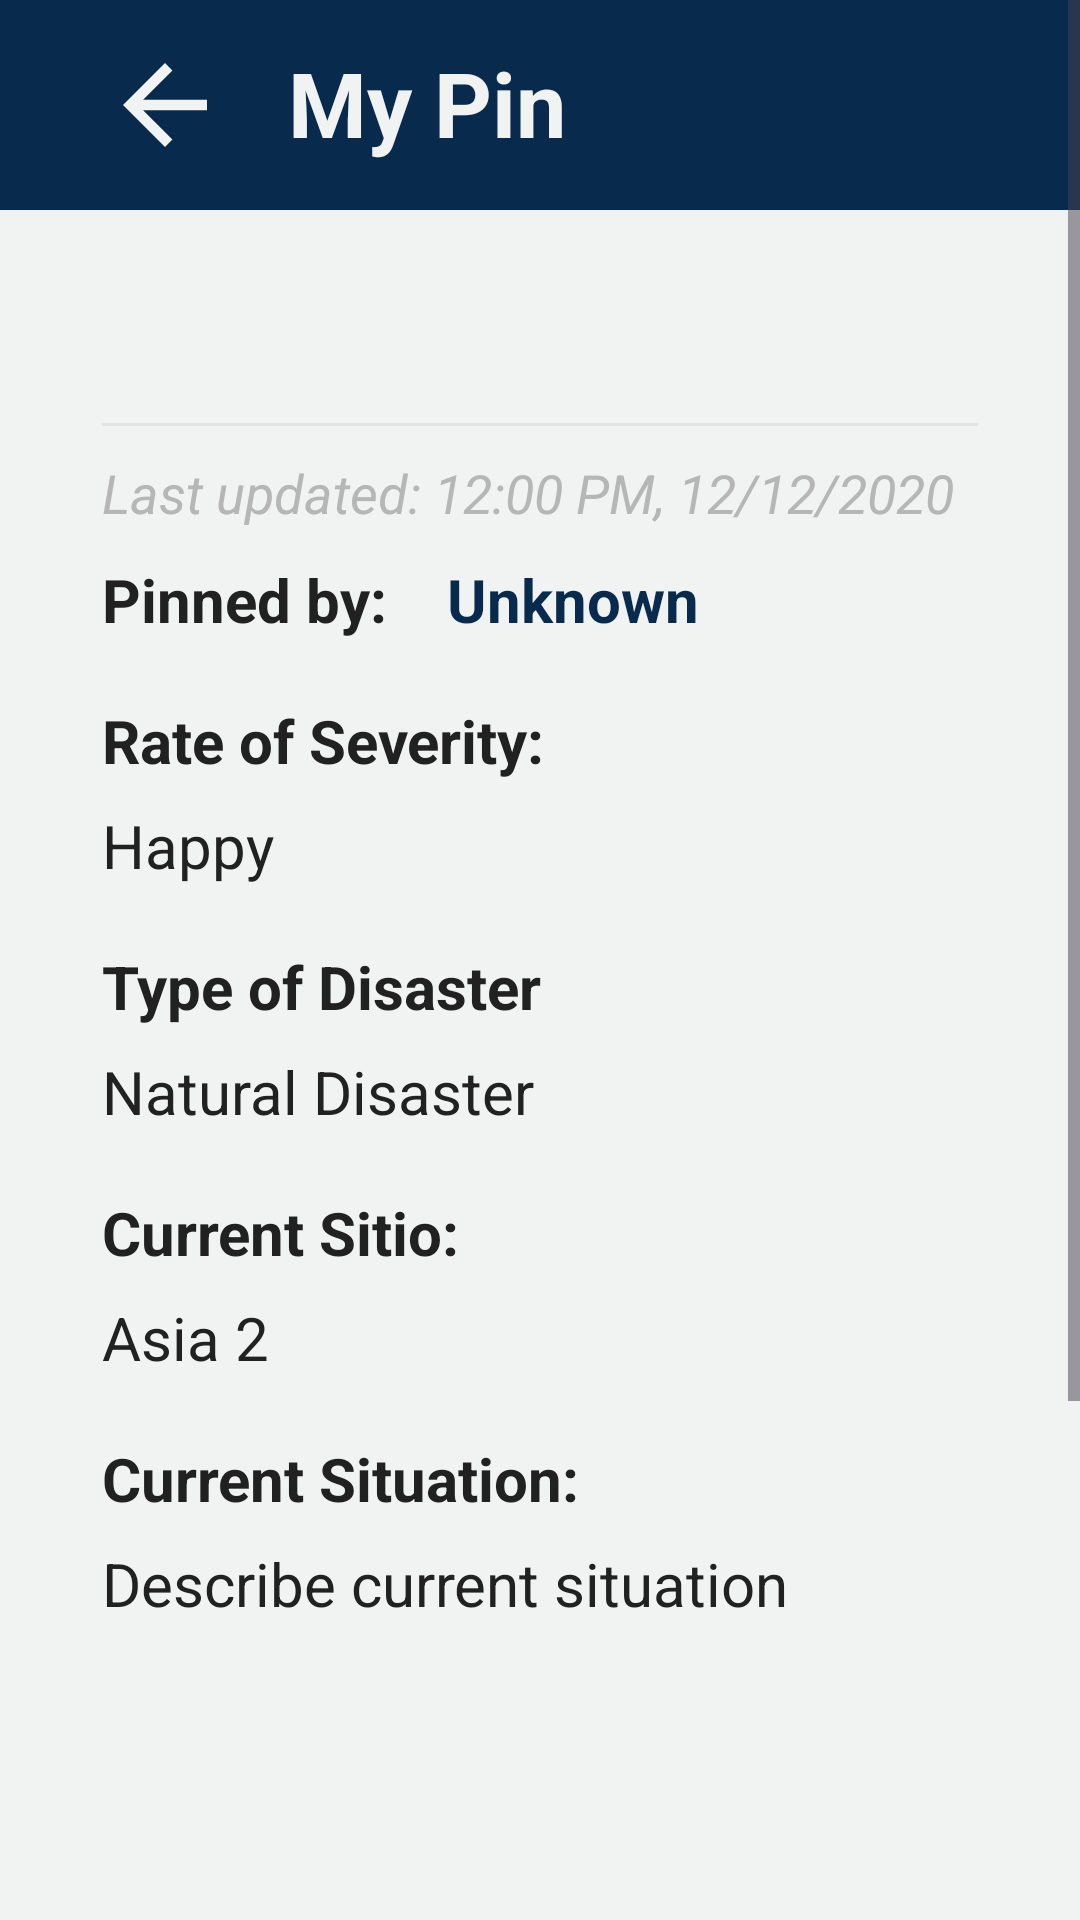

Icon bounding boxes for this 1080x1920 phone screenshot, format (x1, y1, x2, y2):
back: (123, 63, 207, 147)
